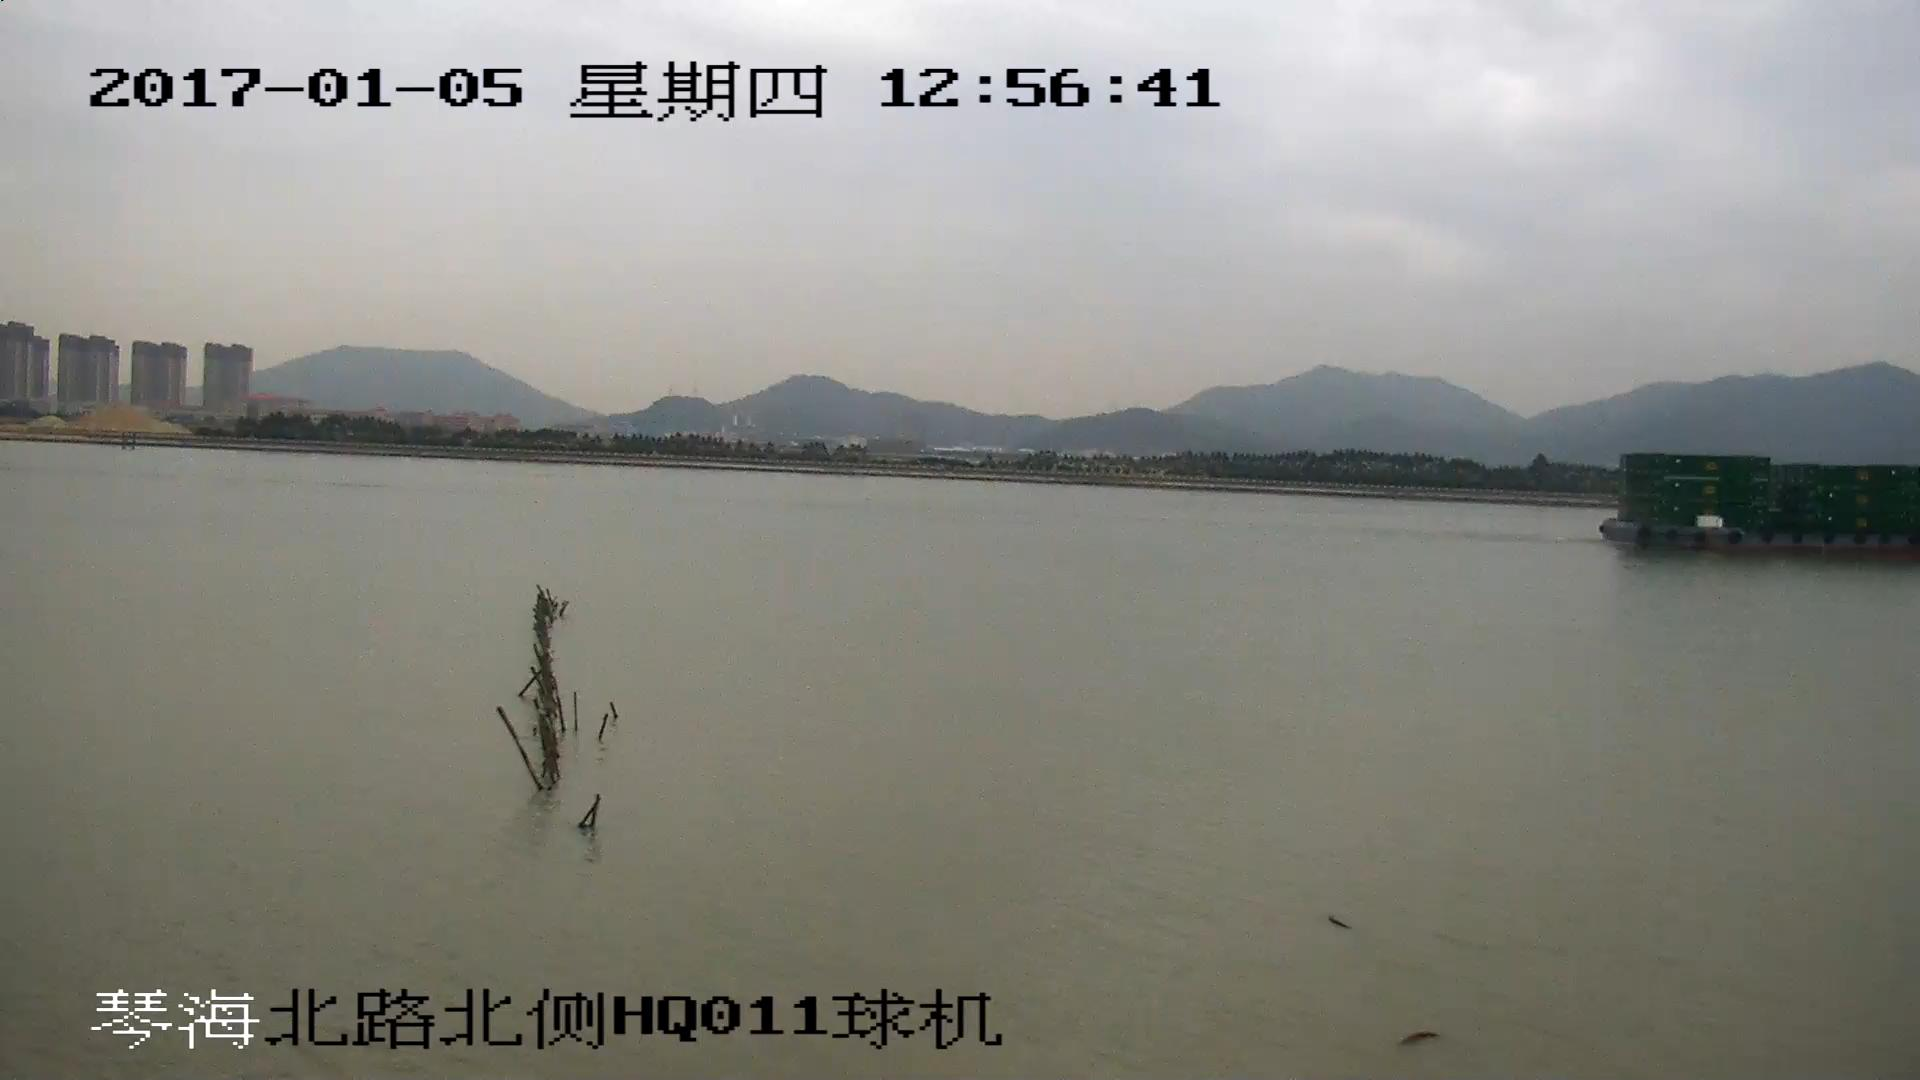container ship: (1611, 452, 1920, 558)
